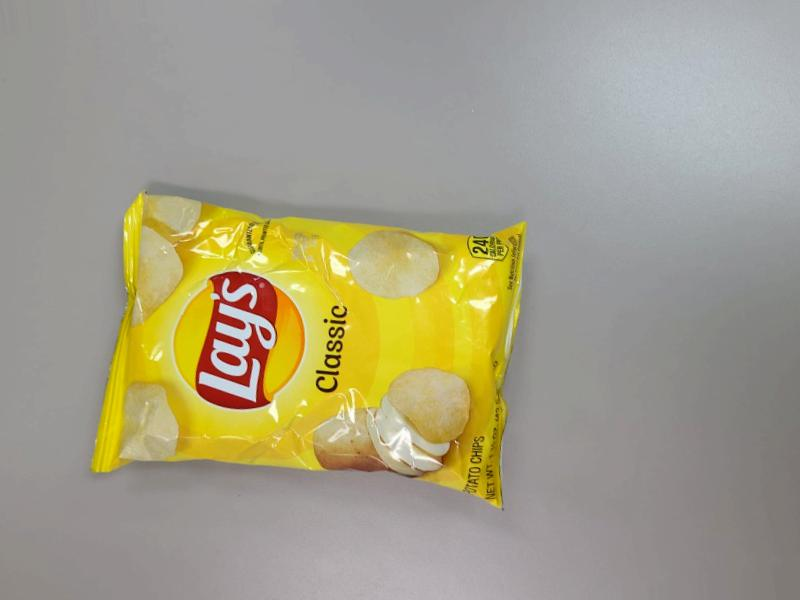lays: (58, 198, 552, 508)
